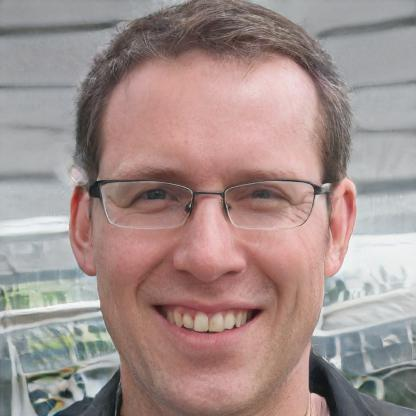glasses: (93, 169, 329, 238)
